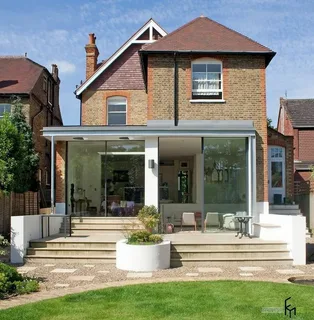private_hause: (60, 30, 273, 230)
